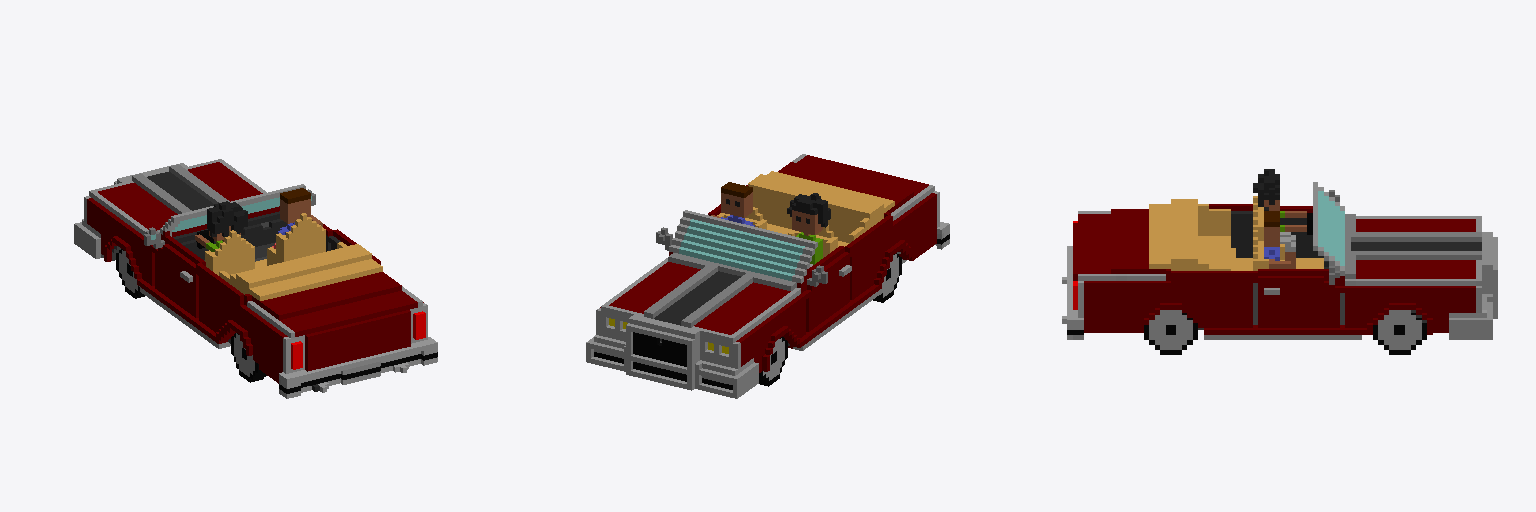
3 views of the same model, side by side, from view 1: azimuth 30°, elevation 25°; view 2: azimuth 150°, elevation 25°; view 3: azimuth 270°, elevation 25° (orthographic).
Parts seen in each view (by area): view 1: object 1; view 2: object 1; view 3: object 1.
Boxes of the visible parts, box(x1,y1,x2,y2) form: object 1: box(74, 159, 437, 398); object 1: box(586, 154, 949, 398); object 1: box(1062, 169, 1497, 354).
Bounding box in the file's own units: 3.6 × 2.7 × 8.
1 materials, 1 textured.